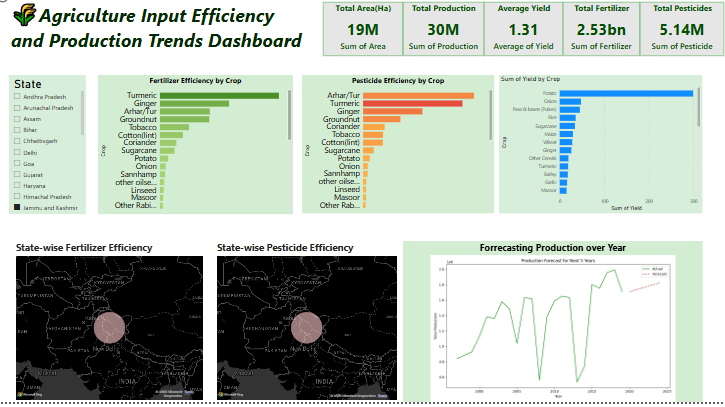

The dashboard page shown, as its layout file describes it:
{"tool":"powerbi","page":{"name":"Page 1","canvas":[1920,1080],"ordinal":0},"visuals":[{"type":"card","title":"Total Area(Ha)","fields":{"Values":["Sum(crop_yield.Area)"]},"box":[857.4,33.1,209.4,141.1],"z":0},{"type":"card","title":"Total Production","fields":{"Values":["Sum(crop_yield.Production)"]},"box":[1066.8,33.1,211.6,141.1],"z":1000},{"type":"card","title":"Average Yield","fields":{"Values":["Avg(crop_yield.Yield)"]},"box":[1278.4,33.1,207.2,141.1],"z":2000},{"type":"card","title":"Total Fertilizer","fields":{"Values":["Sum(crop_yield.Fertilizer)"]},"box":[1485.6,33.1,200.6,141.1],"z":3000},{"type":"clusteredBarChart","fields":{"Y":["crop_yield.Fertilizer Efficiency"],"Category":["crop_yield.Crop"]},"box":[269.4,225,510.1,363.6],"z":4000},{"type":"clusteredBarChart","title":"Pesticide Efficiency by Crop","fields":{"Y":["crop_yield.Pesticide Efficiency"],"Category":["crop_yield.Crop"]},"box":[803.3,225.3,502.9,362.4],"z":5000},{"type":"actionButton","box":[0,0,100,40],"z":7000},{"type":"map","title":"State-wise Pesticide Efficiency","fields":{"Category":["crop_yield.State"],"Size":["crop_yield.Pesticide Efficiency"]},"box":[574.7,659.6,480,421.2],"z":8000},{"type":"map","title":"State-wise Fertilizer Efficiency","fields":{"Category":["crop_yield.State"],"Size":["crop_yield.Fertilizer Efficiency"]},"box":[49,659.6,499.6,421.2],"z":9000},{"type":"card","title":"Total Pesticides","fields":{"Values":["Sum(crop_yield.Pesticide)"]},"box":[1686.1,33.1,220.4,141.1],"z":10000},{"type":"pythonVisual","title":"Forrecasting Production over Year","fields":{"Values":["Sum(crop_yield.Production)","crop_yield.Crop_Year"]},"box":[1066.6,658.8,784.2,421.2],"z":11000},{"type":"slicer","fields":{"Values":["crop_yield.State"]},"box":[36.6,225,201.4,363.6],"z":11001},{"type":"clusteredBarChart","fields":{"Y":["Sum(crop_yield.Yield)"],"Category":["crop_yield.Crop"]},"box":[1319.2,225.3,532.2,362.4],"z":11002},{"type":"textbox","box":[35.9,22.9,780.4,150.2],"z":11003}]}

Visuals, with their boxes in screenshot pixels (x1, y1, x2, y2), scaled from the page's 1920x1080 canvas onto the 725x407 screenshot:
"Total Area(Ha)" card: bbox(324, 12, 403, 66)
"Total Production" card: bbox(403, 12, 483, 66)
"Average Yield" card: bbox(483, 12, 561, 66)
"Total Fertilizer" card: bbox(561, 12, 637, 66)
clusteredBarChart - crop_yield.Fertilizer Efficiency x crop_yield.Crop: bbox(102, 85, 294, 222)
"Pesticide Efficiency by Crop" clusteredBarChart: bbox(303, 85, 493, 221)
actionButton: bbox(0, 0, 38, 15)
"State-wise Pesticide Efficiency" map: bbox(217, 249, 398, 406)
"State-wise Fertilizer Efficiency" map: bbox(19, 249, 207, 406)
"Total Pesticides" card: bbox(637, 12, 720, 66)
"Forrecasting Production over Year" pythonVisual: bbox(403, 248, 699, 406)
slicer - crop_yield.State: bbox(14, 85, 90, 222)
clusteredBarChart - Sum(crop_yield.Yield) x crop_yield.Crop: bbox(498, 85, 699, 221)
textbox: bbox(14, 9, 308, 65)
